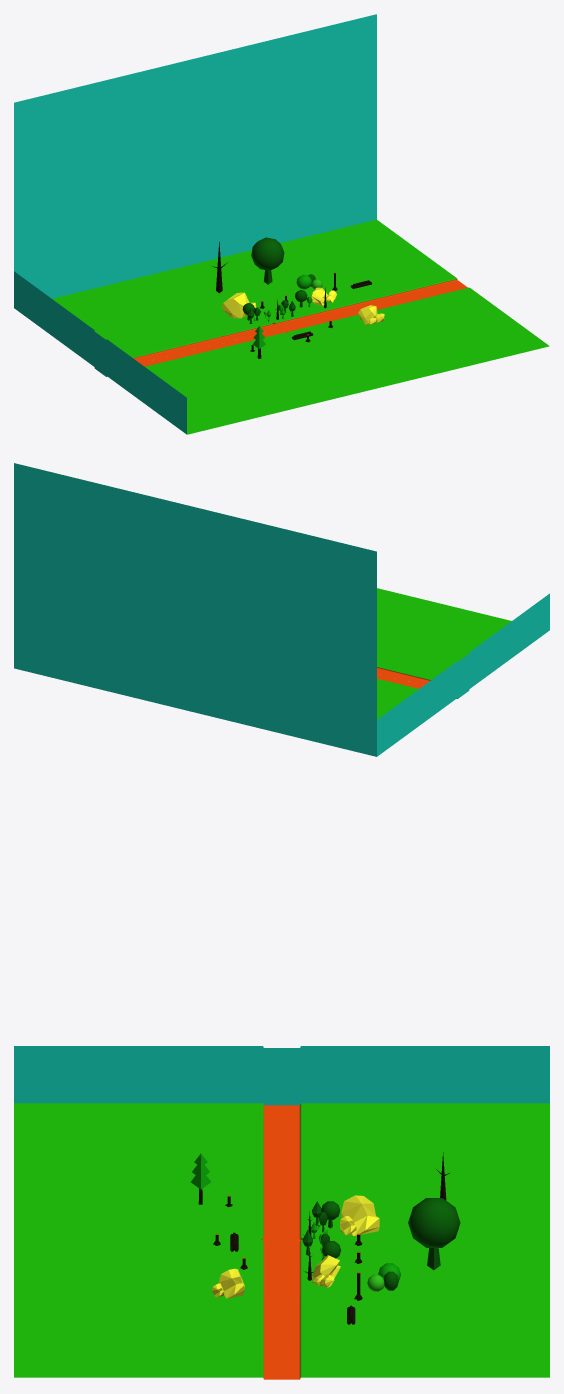
File: map 1.fbx
3 views of the same model, one above another, from view 1: azimuth 30°, elevation 25°; view 2: azimuth 150°, elevation 25°; view 3: azimuth 270°, elevation 25° (orthographic). The views are drawn at different scales.
Parts seen in each view (by area): view 1: Plane003, Plane004, Cylinder024; view 2: Plane003, Plane004; view 3: Plane004, Plane003, Cylinder024, Box010.
Part boxes in pixels (<box>): Plane003: <box>14,14,462,372</box>; Plane004: <box>100,284,549,434</box>; Cylinder024: <box>251,237,284,284</box>; Plane003: <box>14,463,463,756</box>; Plane004: <box>377,588,549,694</box>; Plane004: <box>14,1046,282,1379</box>; Plane003: <box>281,1046,549,1379</box>; Cylinder024: <box>408,1198,460,1269</box>; Box010: <box>341,1195,379,1236</box>.
Size of the model in its own units: 1097 by 611 by 907.
